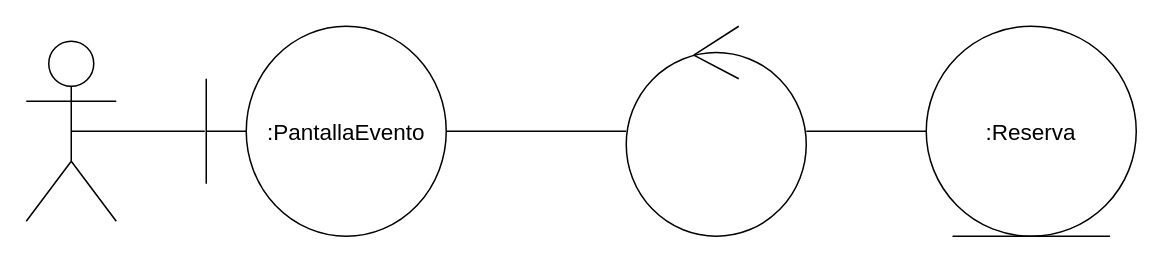
Image size: 1163x279. Some labels were removed from this diagram. The shapes that lost their labels are listed below. From the top down, each one's box as (x1, y1, x2, y2) in pixels, then its label:
(25, 40, 116, 221): :Estudiante
(625, 25, 806, 236): :Gestion Reserva
